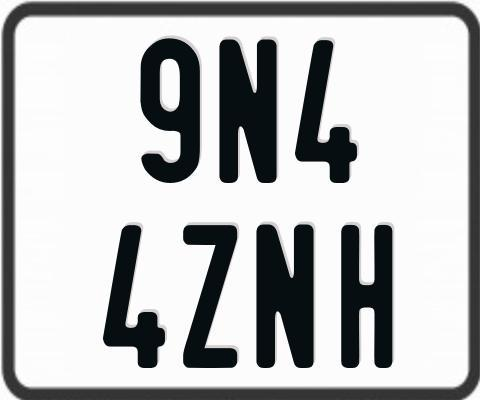4: (293, 39, 360, 186), (102, 223, 167, 366)
9: (138, 35, 204, 186)
H: (338, 223, 395, 367)
N: (254, 222, 315, 366), (219, 39, 277, 189)
Z: (181, 224, 240, 372)
